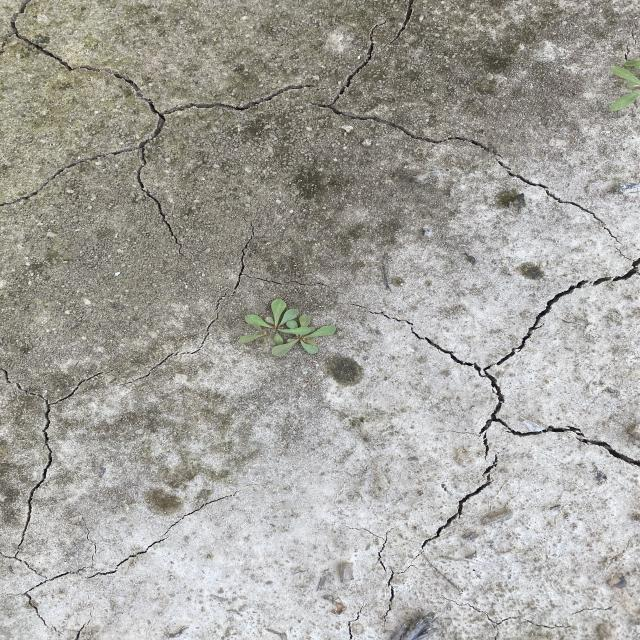Carpetweed: (236, 297, 338, 358)
